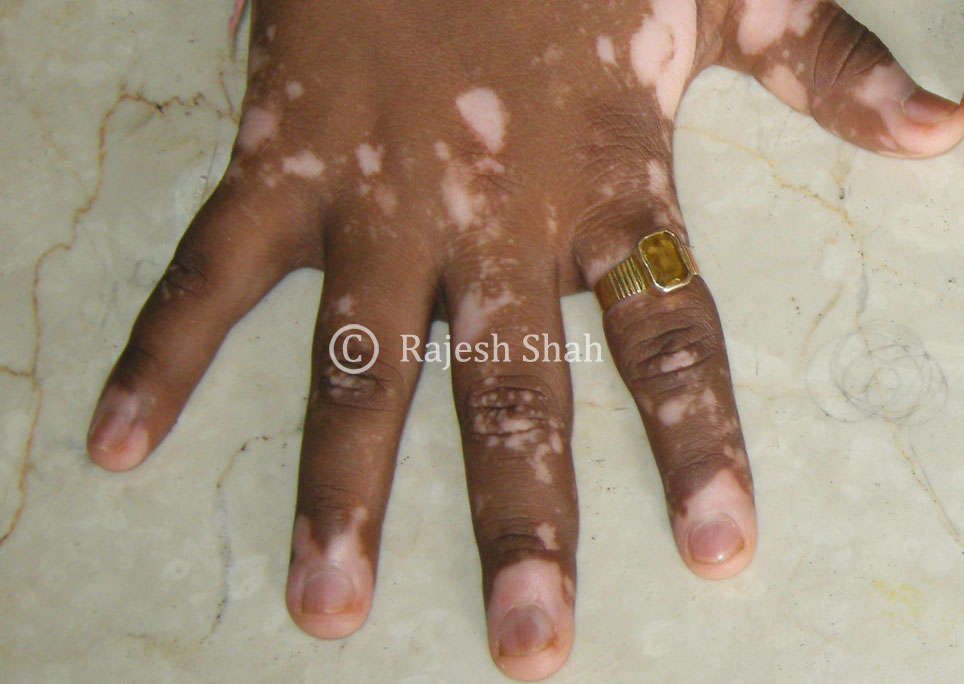vitiligo: (244, 67, 702, 568)
